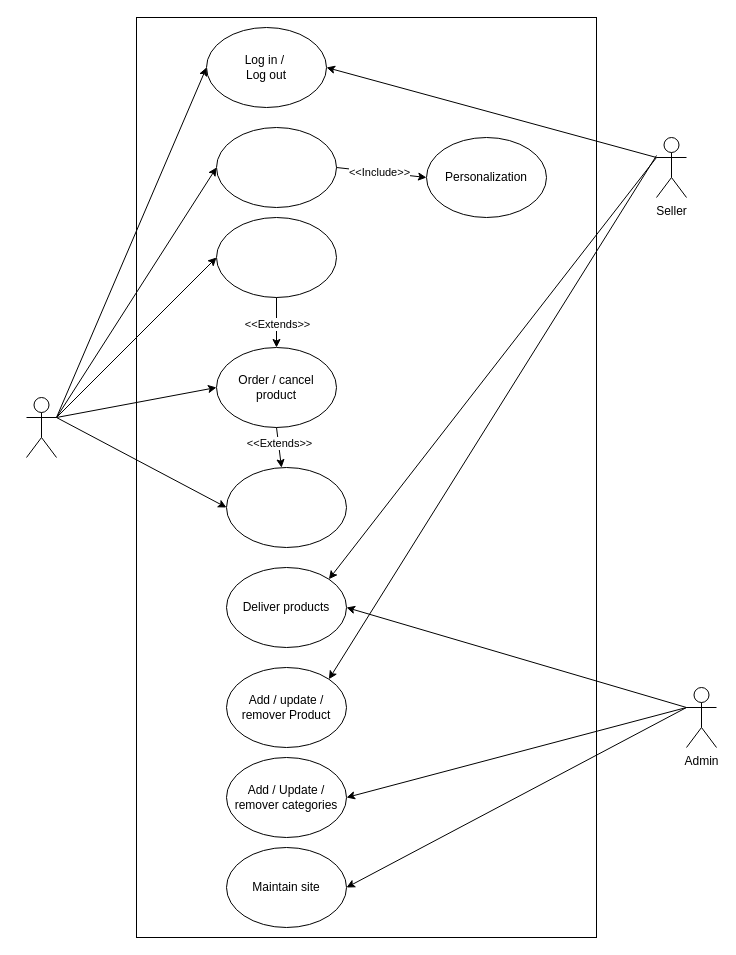
Image size: 736x955. Some labels were removed from this diagram. The shapes that lost their labels are listed below. From the top down, each one's centre as x and y in pixels, then its label:
point (276, 167): Search items
point (276, 257): Add / update / remove product to cart
point (41, 427): customer
point (286, 507): Payment
